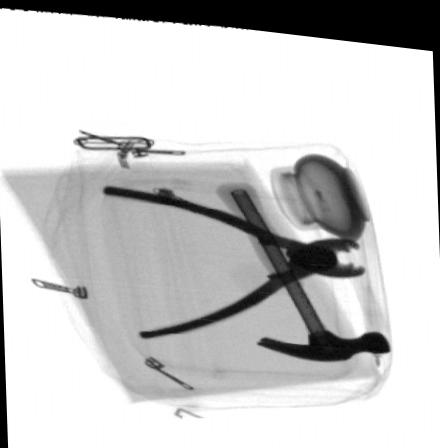Hammer: (214, 176, 391, 355)
Pliers: (101, 183, 365, 335)
